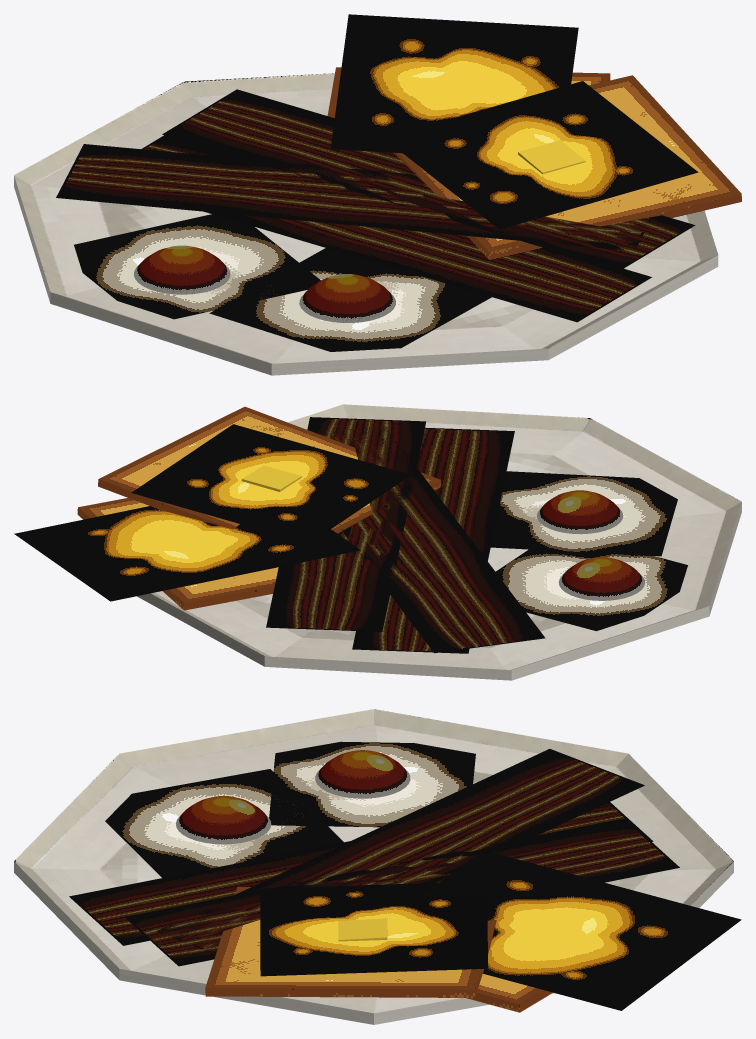
The model's file is Anime_Breakfast.glb.
3 views of the same model, one above another, from view 1: azimuth 30°, elevation 25°; view 2: azimuth 150°, elevation 25°; view 3: azimuth 270°, elevation 25° (orthographic). The views are drawn at different scales.
Parts seen in each view (by area): view 1: Cylinder, Circle, Plane.004, Plane.003, Plane.002, Plane.001, Plane, Cube.001, Cube.002, Cube; view 2: Cylinder, Circle, Plane.004, Plane.002, Plane.003, Plane.001, Plane, Cube.001, Cube, Cube.002; view 3: Cylinder, Circle, Plane.004, Plane.002, Plane.003, Plane.001, Cube.001, Plane, Cube, Cube.002.
Part boxes in pixels (bbox=[...]): Cylinder: bbox=[14, 73, 718, 375]; Circle: bbox=[74, 214, 491, 351]; Plane.004: bbox=[330, 14, 578, 155]; Plane.003: bbox=[403, 81, 698, 229]; Plane.002: bbox=[56, 144, 651, 250]; Plane.001: bbox=[162, 89, 695, 270]; Plane: bbox=[141, 135, 651, 322]; Cube.001: bbox=[394, 75, 741, 260]; Cube.002: bbox=[518, 140, 585, 174]; Cube: bbox=[327, 67, 610, 117]; Cylinder: bbox=[137, 404, 741, 680]; Circle: bbox=[490, 471, 687, 631]; Plane.004: bbox=[14, 506, 360, 601]; Plane.002: bbox=[320, 426, 545, 653]; Plane.003: bbox=[131, 424, 410, 535]; Plane.001: bbox=[266, 417, 426, 631]; Plane: bbox=[352, 427, 514, 653]; Cube.001: bbox=[98, 406, 441, 533]; Cube: bbox=[77, 498, 278, 610]; Cube.002: bbox=[241, 465, 301, 491]; Cylinder: bbox=[14, 709, 733, 1024]; Circle: bbox=[105, 741, 475, 877]; Plane.004: bbox=[420, 850, 741, 1010]; Plane.002: bbox=[156, 749, 644, 951]; Plane.003: bbox=[260, 882, 487, 976]; Plane.001: bbox=[124, 818, 679, 966]; Cube.001: bbox=[205, 886, 496, 997]; Plane: bbox=[69, 802, 653, 945]; Cube: bbox=[466, 974, 552, 1012]; Cube.002: bbox=[338, 918, 387, 941].
Bounding box in the file's own units: 2.07 × 0.1112 × 2.02.
Materials: 10 (6 with a texture image).
